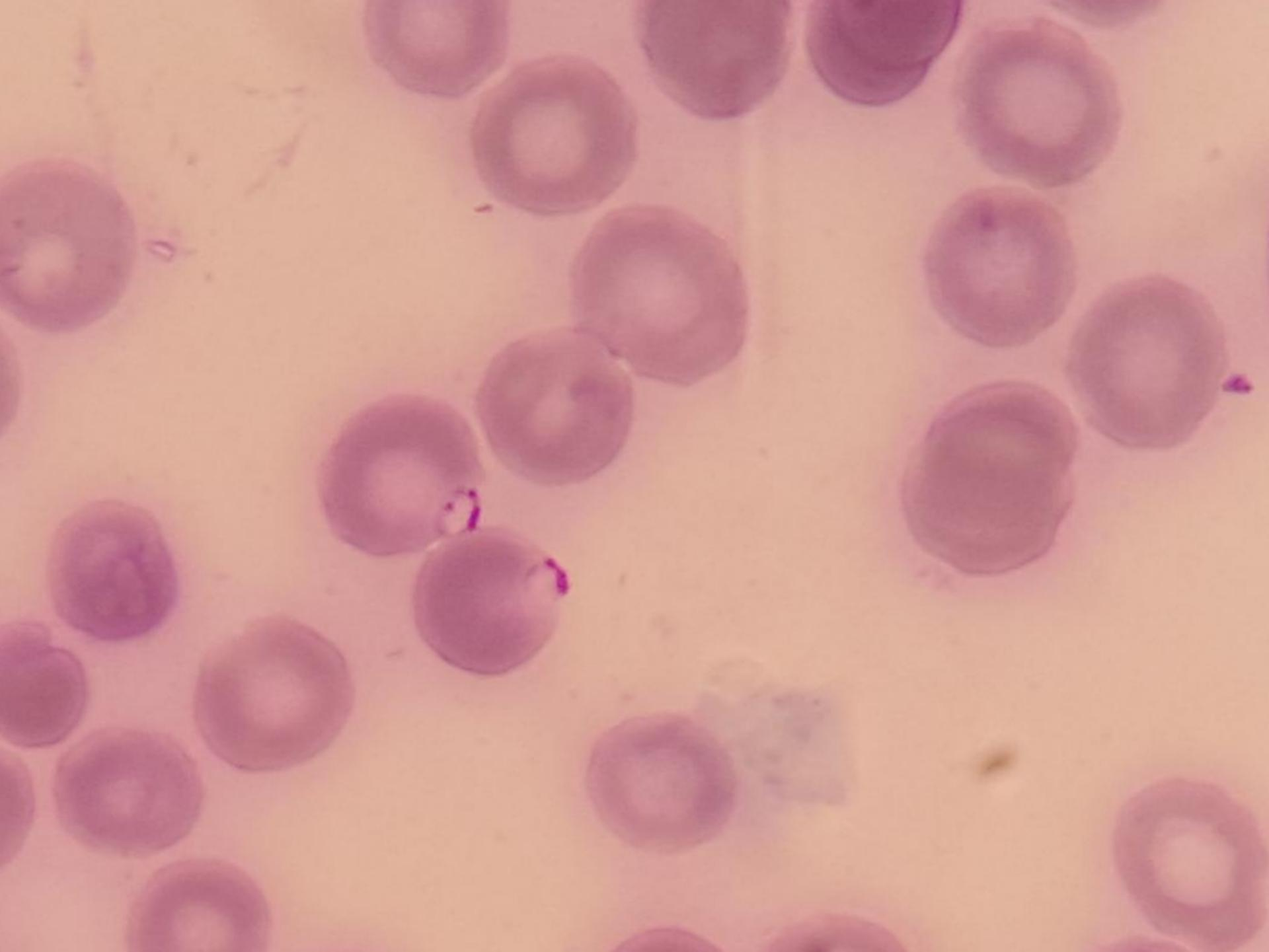Infected: (321, 390, 492, 554), (420, 527, 573, 674)
Uninfected: (907, 377, 1080, 578), (570, 205, 749, 385), (190, 620, 359, 774), (958, 25, 1121, 183), (1074, 271, 1219, 447), (1112, 778, 1269, 940), (925, 195, 1082, 351), (474, 60, 634, 213), (479, 331, 638, 483), (0, 159, 137, 327), (587, 712, 737, 848), (53, 727, 206, 853), (638, 0, 795, 122), (45, 496, 178, 637), (355, 0, 514, 99), (129, 859, 268, 952), (0, 631, 88, 746)
